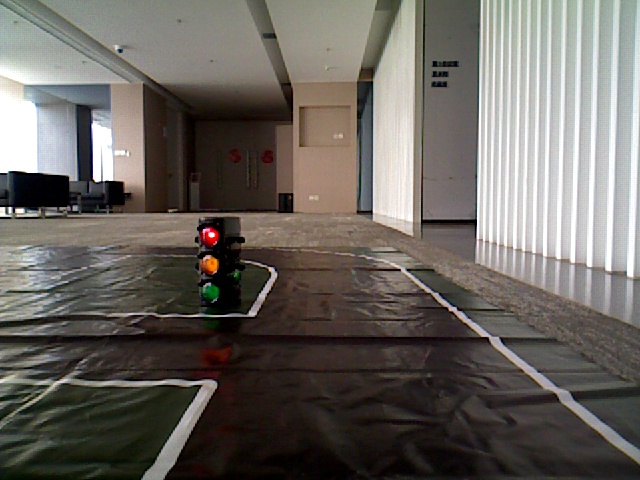red: (194, 220, 230, 304)
